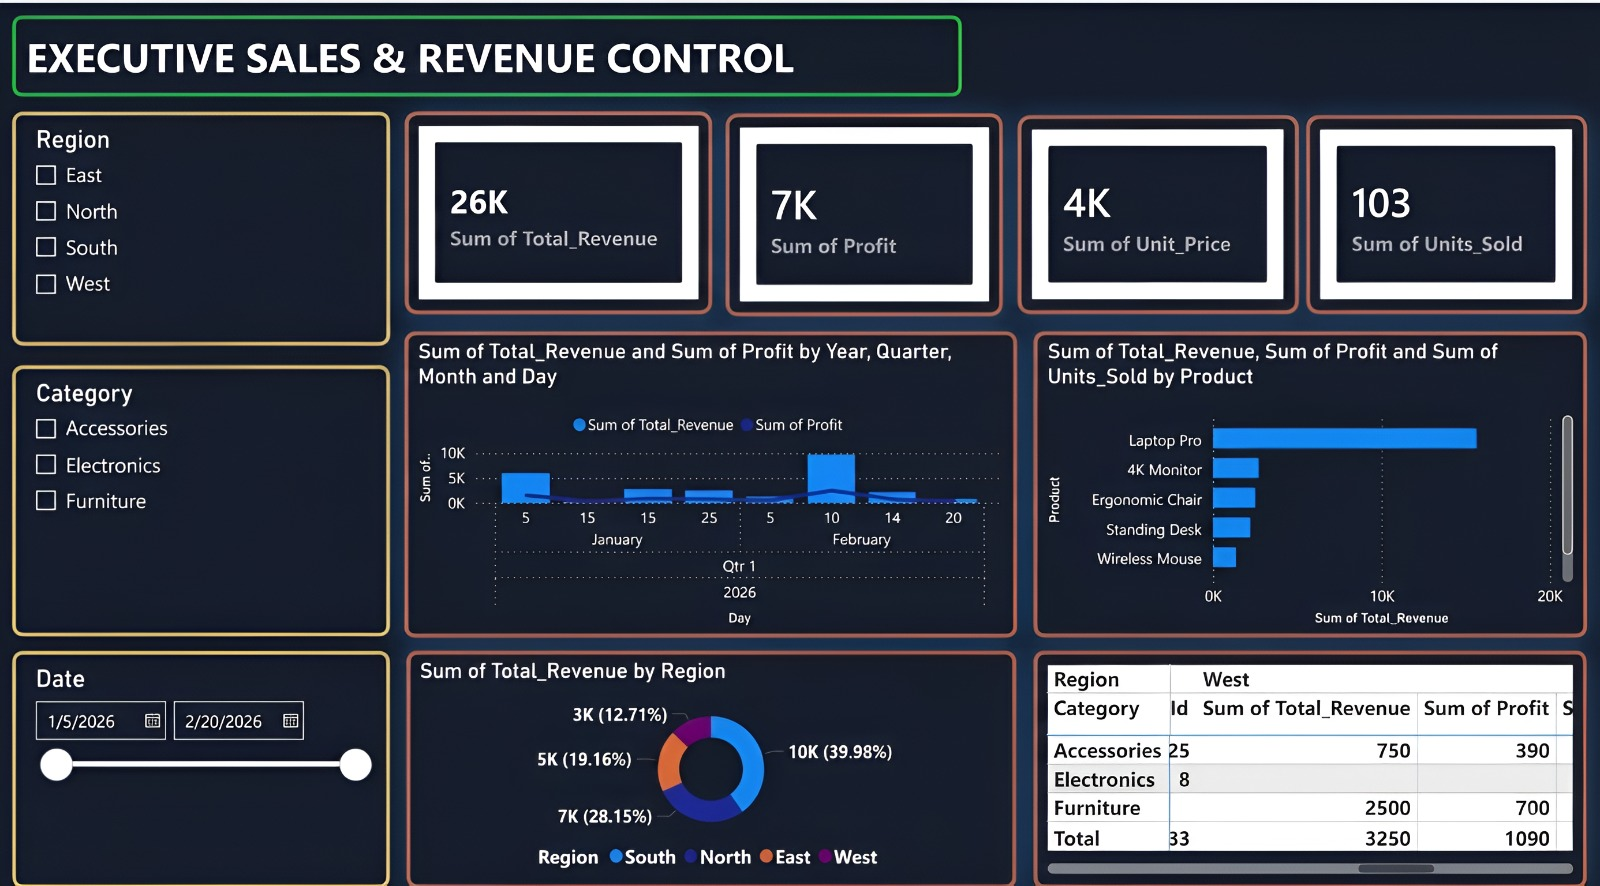

This screenshot's page, from the dashboard's own definition file:
{"tool":"powerbi","page":{"name":"Page 1","canvas":[1280,720],"ordinal":0},"visuals":[{"type":"textbox","box":[9.9,9.9,756.9,65.2],"z":0},{"type":"slicer","fields":{"Values":["Table.Region"]},"box":[9.9,86.5,300.5,187.1],"z":1000},{"type":"cardVisual","fields":{"Data":["Sum(Table.Total_Revenue)"]},"box":[323.2,86.5,245.2,161.6],"z":2000},{"type":"slicer","fields":{"Values":["Table.Category"]},"box":[9.9,290.6,300.5,216.9],"z":3000},{"type":"lineClusteredColumnComboChart","fields":{"Category":["Table.Date.Variation.Date Hierarchy.Year","Table.Date.Variation.Date Hierarchy.Quarter","Table.Date.Variation.Date Hierarchy.Month","Table.Date.Variation.Date Hierarchy.Day"],"Y":["Sum(Table.Total_Revenue)"],"Y2":["Sum(Table.Profit)"]},"box":[323.2,262.2,487.6,245.2],"z":4000},{"type":"clusteredBarChart","fields":{"Category":["Table.Product","Table.Category"],"Y":["Sum(Table.Total_Revenue)"]},"box":[825,262.2,440.8,245.2],"z":5000},{"type":"donutChart","fields":{"Category":["Table.Region"],"Y":["Sum(Table.Total_Revenue)"]},"box":[324.6,518.8,486.2,189.9],"z":6000},{"type":"cardVisual","fields":{"Data":["Sum(Table.Profit)"]},"box":[578.3,87.9,221.1,161.6],"z":7000},{"type":"cardVisual","fields":{"Data":["Sum(Table.Unit_Price)"]},"box":[810.8,89.3,224,158.8],"z":8000},{"type":"cardVisual","fields":{"Data":["Sum(Table.Units_Sold)"]},"box":[1041.9,89.3,224,158.8],"z":9000},{"type":"slicer","fields":{"Values":["Table.Date"]},"box":[9.9,518.8,300.5,189.9],"z":10000},{"type":"pivotTable","fields":{"Rows":["Table.Category"],"Columns":["Table.Region"],"Values":["Sum(Table.Total_Revenue)","Sum(Table.Profit)","Sum(Table.Units_Sold)"]},"box":[824.9,518.7,440.8,189.9],"z":11000}]}

Visuals, with their boxes in screenshot pixels (x1, y1, x2, y2), scaled from the page's 1280x720 canvas onto the 1600x886 screenshot:
textbox: (left=12, top=12, right=958, bottom=92)
slicer - Table.Region: (left=12, top=106, right=388, bottom=337)
cardVisual - Sum(Table.Total_Revenue): (left=404, top=106, right=710, bottom=305)
slicer - Table.Category: (left=12, top=358, right=388, bottom=625)
lineClusteredColumnComboChart - Table.Date.Variation.Date Hierarchy.Year x Table.Date.Variation.Date Hierarchy.Quarter: (left=404, top=323, right=1014, bottom=624)
clusteredBarChart - Table.Product x Table.Category: (left=1031, top=323, right=1582, bottom=624)
donutChart - Table.Region x Sum(Table.Total_Revenue): (left=406, top=638, right=1014, bottom=872)
cardVisual - Sum(Table.Profit): (left=723, top=108, right=999, bottom=307)
cardVisual - Sum(Table.Unit_Price): (left=1014, top=110, right=1294, bottom=305)
cardVisual - Sum(Table.Units_Sold): (left=1302, top=110, right=1582, bottom=305)
slicer - Table.Date: (left=12, top=638, right=388, bottom=872)
pivotTable - Table.Category x Table.Region: (left=1031, top=638, right=1582, bottom=872)
